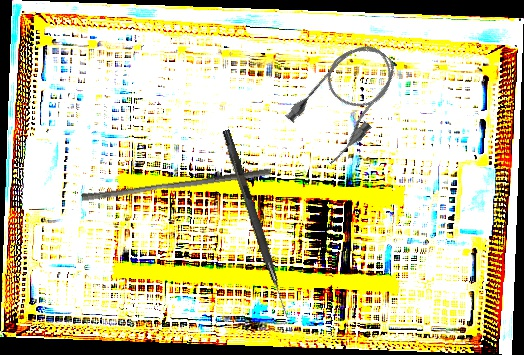Cannula: (279, 30, 414, 170)
Hook Surgical: (219, 129, 294, 319)
Pusher: (81, 160, 272, 209)
